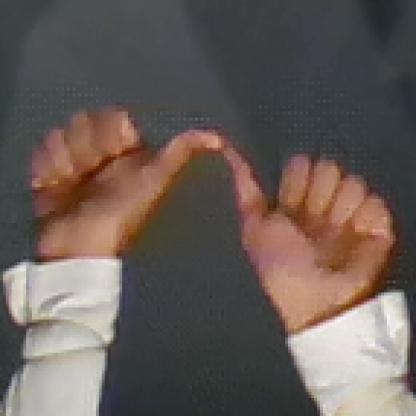A: (17, 94, 396, 285)
